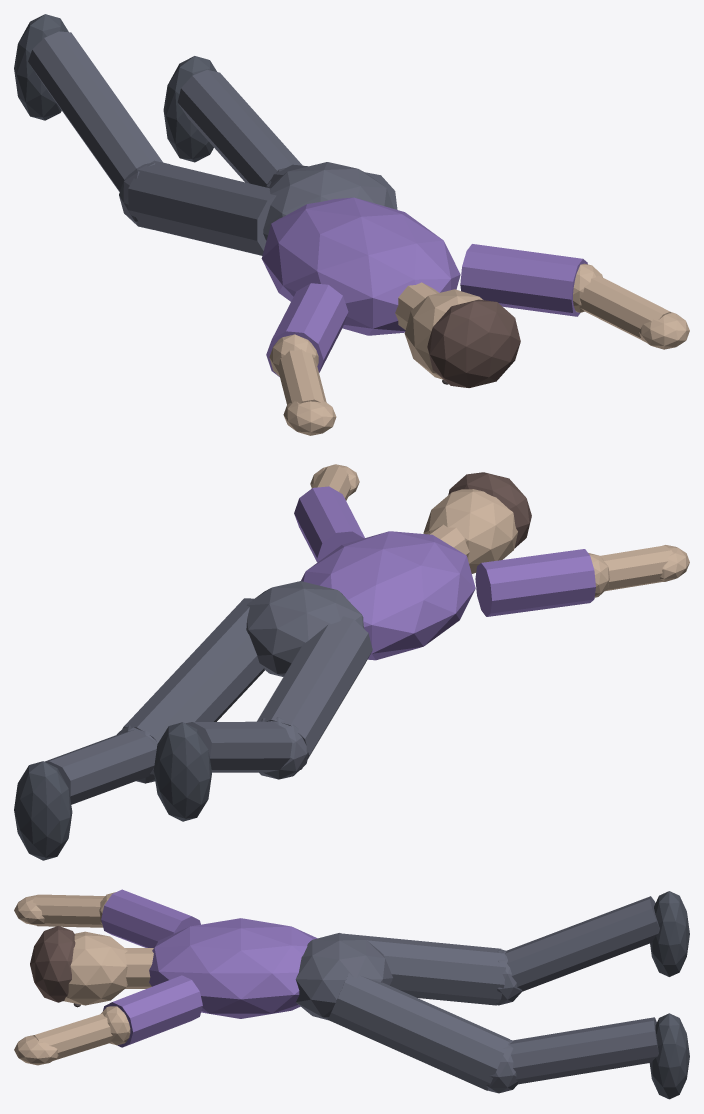
3 renders of one model, top to bottom at view 1: azimuth 30°, elevation 25°; view 2: azimuth 150°, elevation 25°; view 3: azimuth 270°, elevation 25°, orthographic. The views are drawn at different scales.
Visible parts, largest first — view 1: world; view 2: world; view 3: world.
Boxes of the visible parts, left/top/right/bottom form: world: left=14, top=14, right=689, bottom=435; world: left=14, top=464, right=689, bottom=860; world: left=14, top=889, right=689, bottom=1099.
Size of the model in its own units: 1.17 by 0.52 by 2.13.
